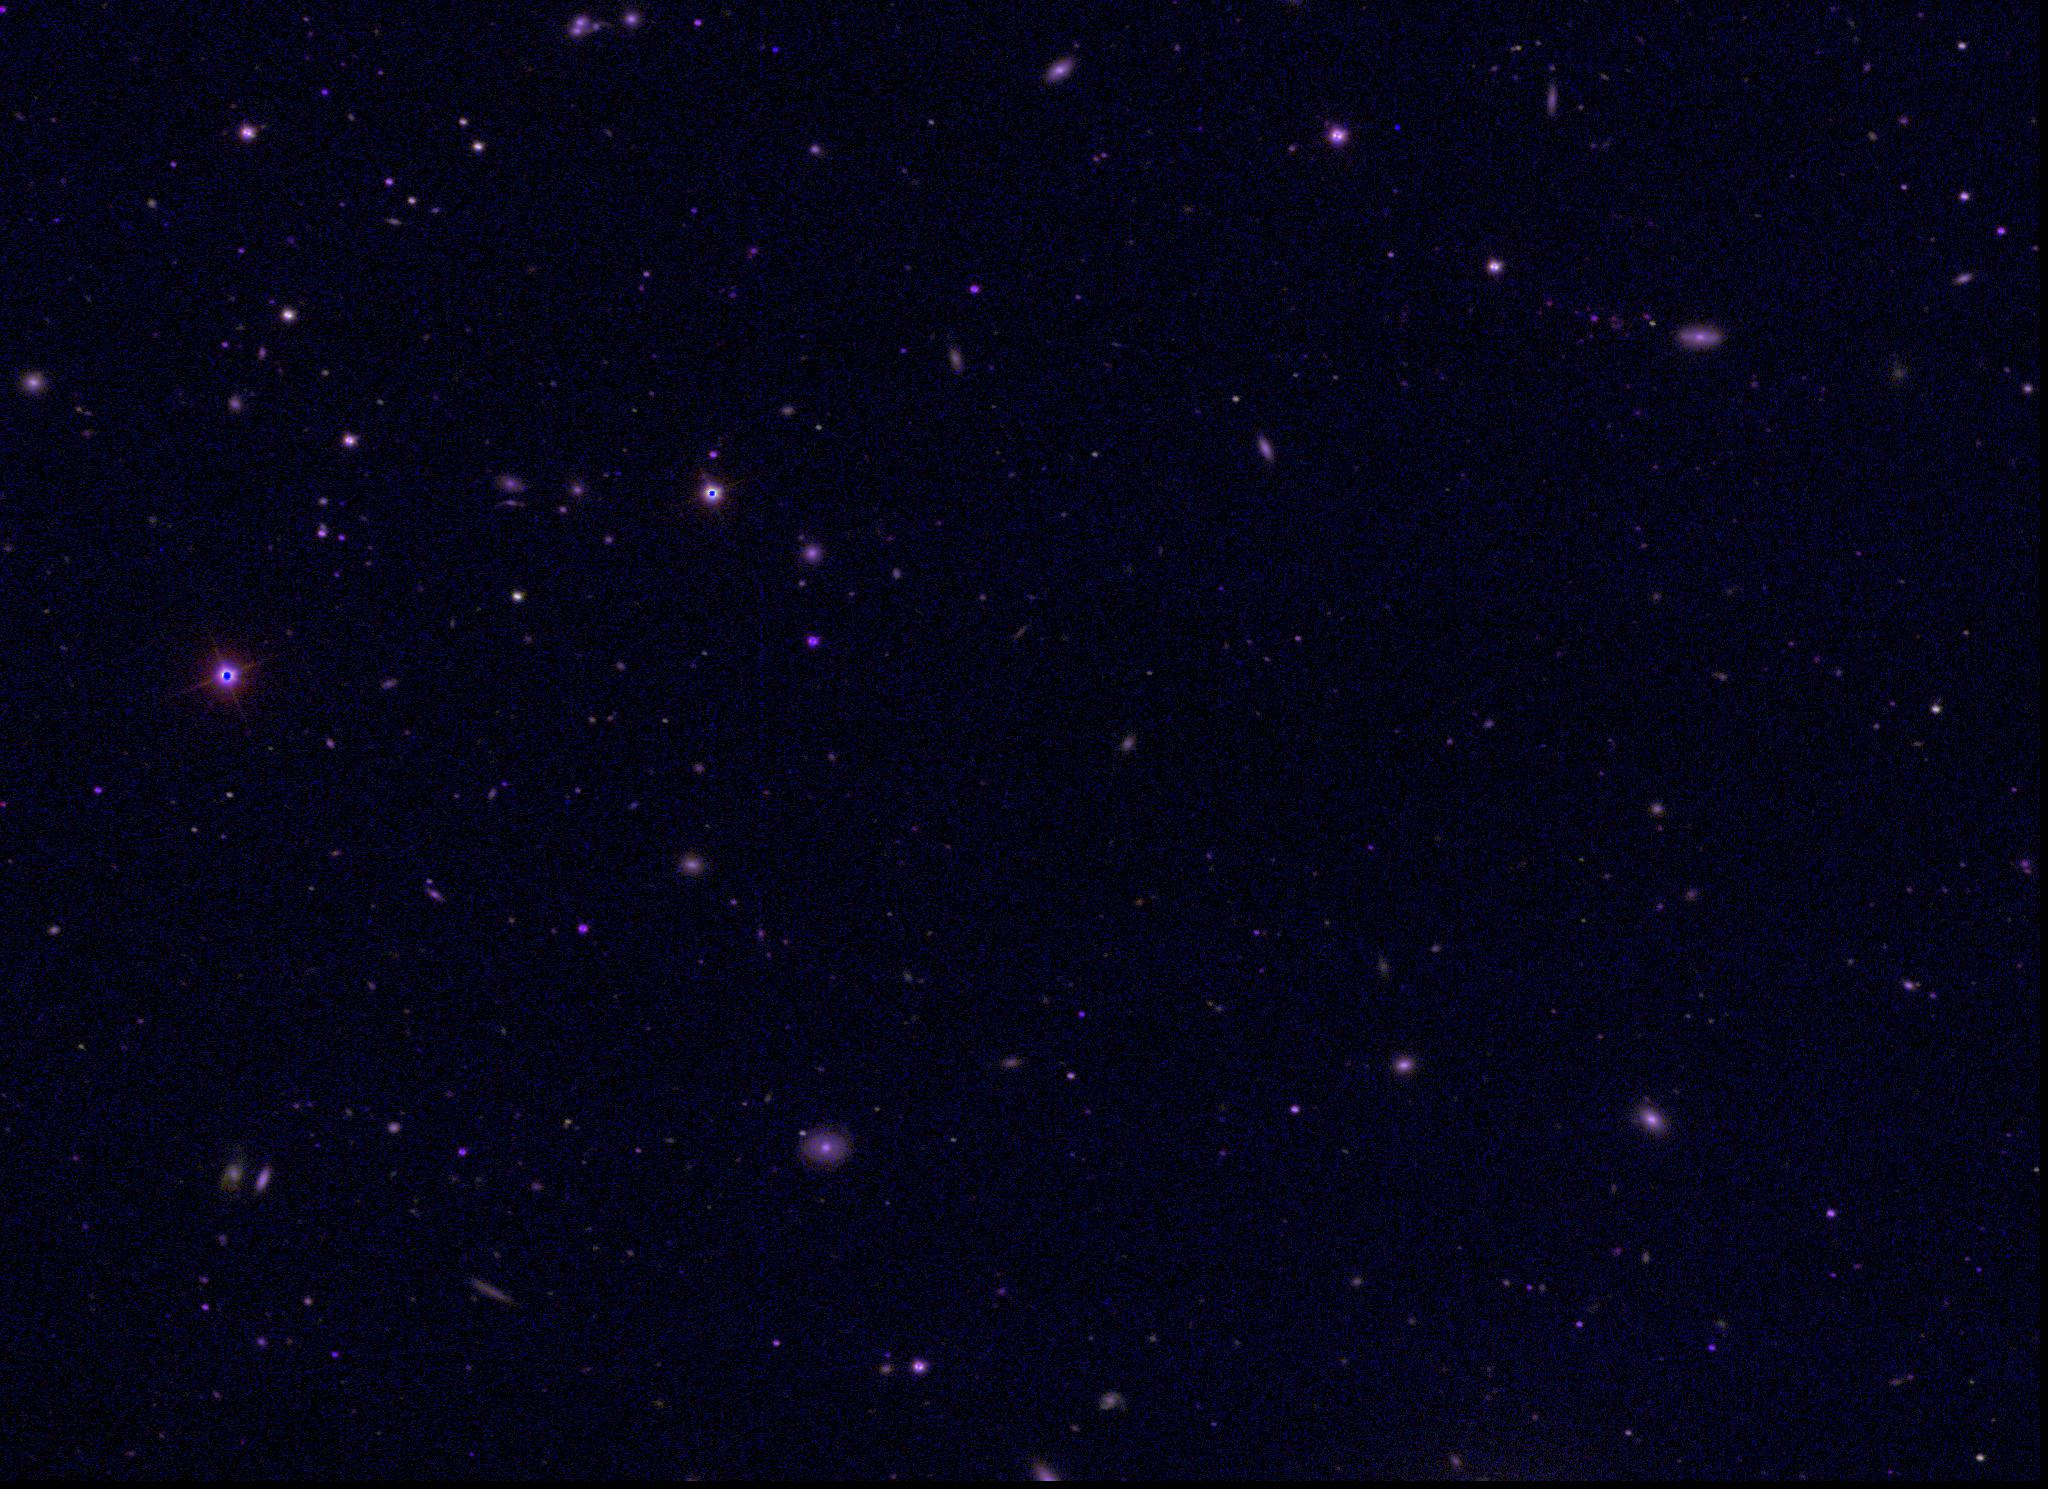L: (1390, 121, 1404, 135)
